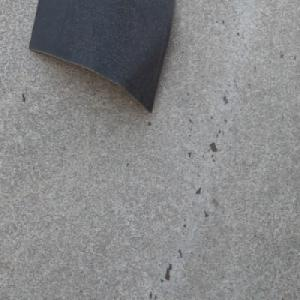PaintChip: (27, 0, 176, 113)
